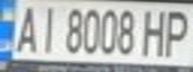0: (81, 4, 103, 55), (100, 6, 121, 55)
8: (115, 6, 142, 56), (60, 3, 84, 55)
A: (9, 0, 42, 54)
H: (139, 6, 172, 57)
I: (33, 1, 60, 54)
P: (157, 6, 193, 57)
